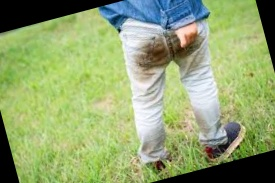earth: (136, 38, 182, 69)
